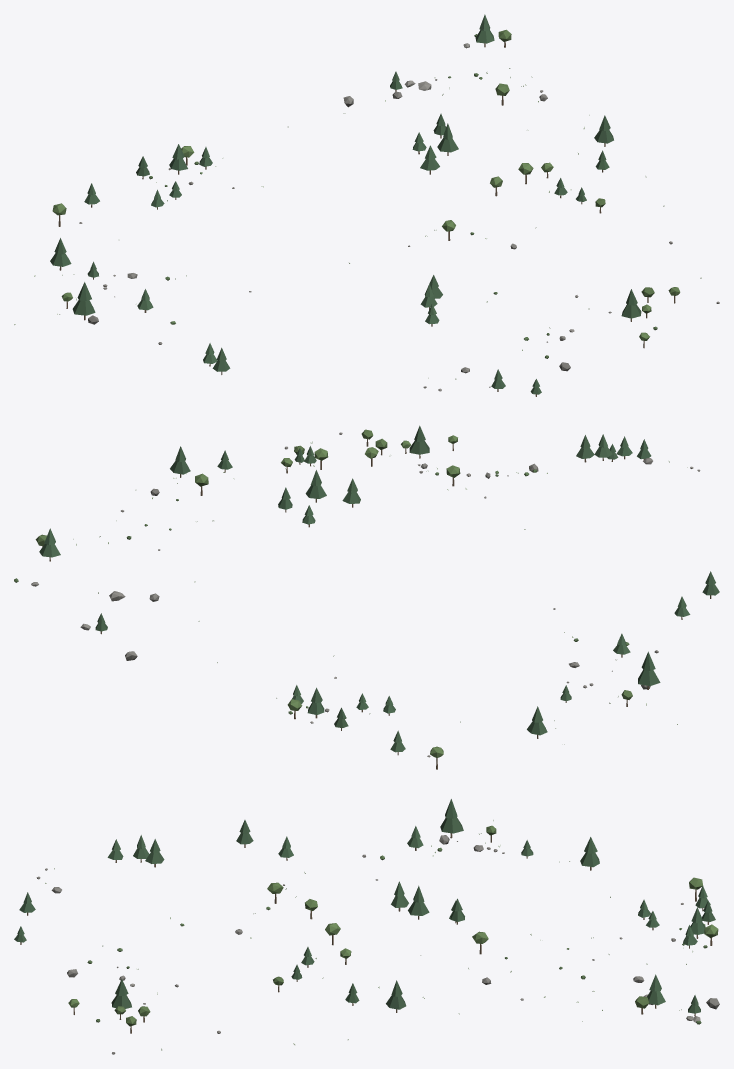
File: arch_land_scatter_c20_19_lod1.glb
3 views of the same model, one above another, from view 1: azimuth 30°, elevation 25°; view 2: azimuth 150°, elevation 25°; view 3: azimuth 270°, elevation 25° (orthographic). The views are drawn at different scales.
Visible parts, largest first — view 1: arch_land_scatter_c20_19_lod1; view 2: arch_land_scatter_c20_19_lod1; view 3: arch_land_scatter_c20_19_lod1.
Part boxes in pixels (x1,y1,x2,y2): arch_land_scatter_c20_19_lod1: (14,14,719,396); arch_land_scatter_c20_19_lod1: (14,425,719,769); arch_land_scatter_c20_19_lod1: (14,799,719,1054).
Bounding box in the file's own units: 249 × 58.32 × 258.
